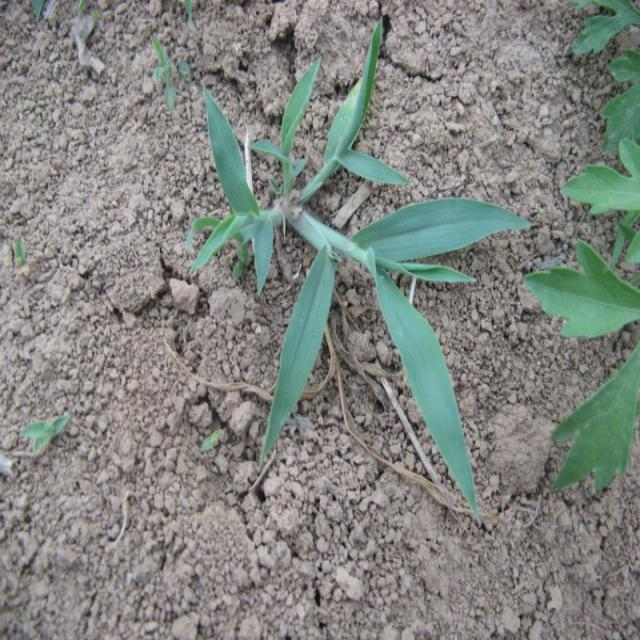bg: (190, 55, 533, 526)
